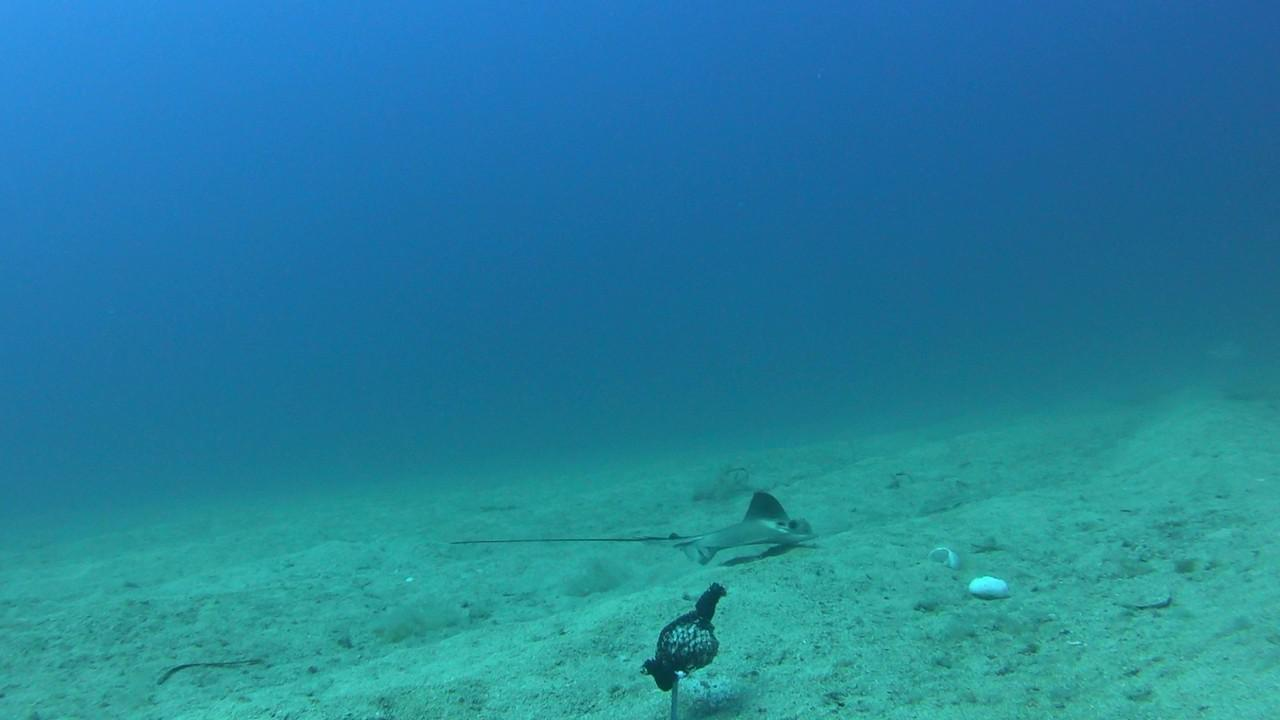myliobatis: (456, 488, 834, 559)
